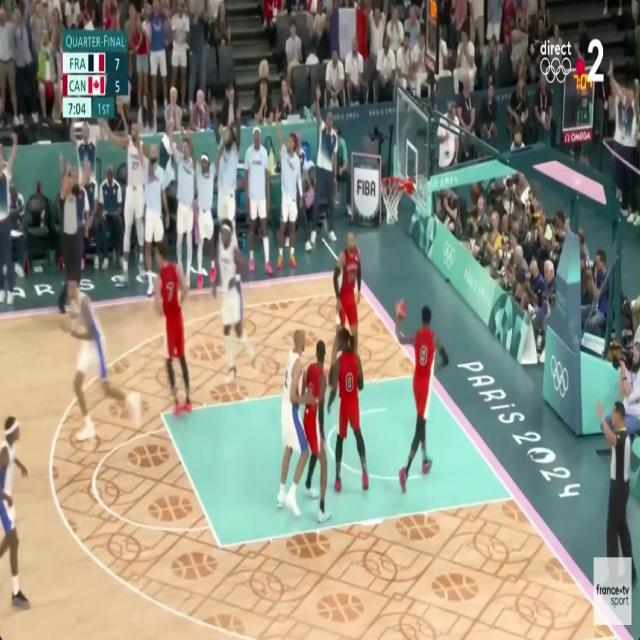ball_handler: (393, 289, 451, 497)
